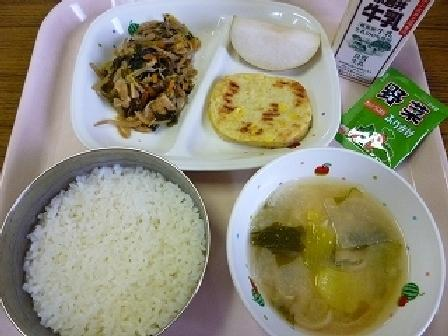Apple: (227, 9, 325, 81)
Milk: (321, 0, 441, 74)
Rice: (4, 150, 203, 324)
Soups: (230, 151, 437, 334)
egg product: (210, 66, 315, 149)
salad with sauce: (69, 9, 201, 128)
